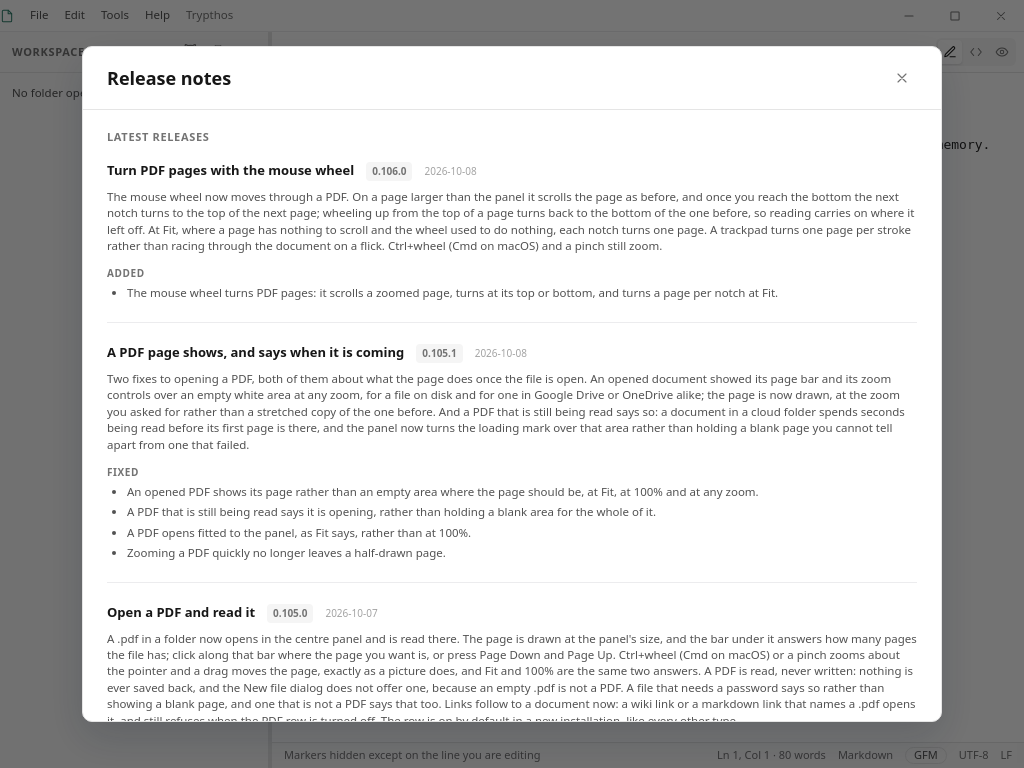
Scenario: App › opens the release notes from the Help menu, and closes them
The width and height of the screenshot is (1024, 768).
Click the button named "Close release notes" at x=902, y=78, box [887,63,917,93]
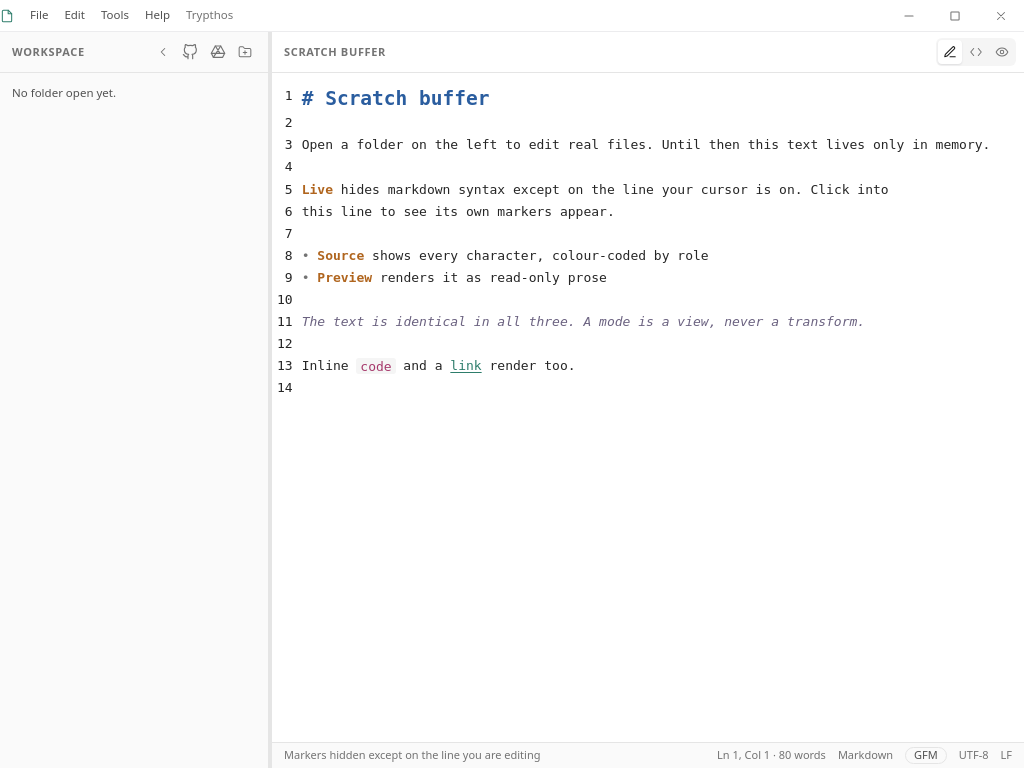
Expected: the heading "Release notes" is gone
